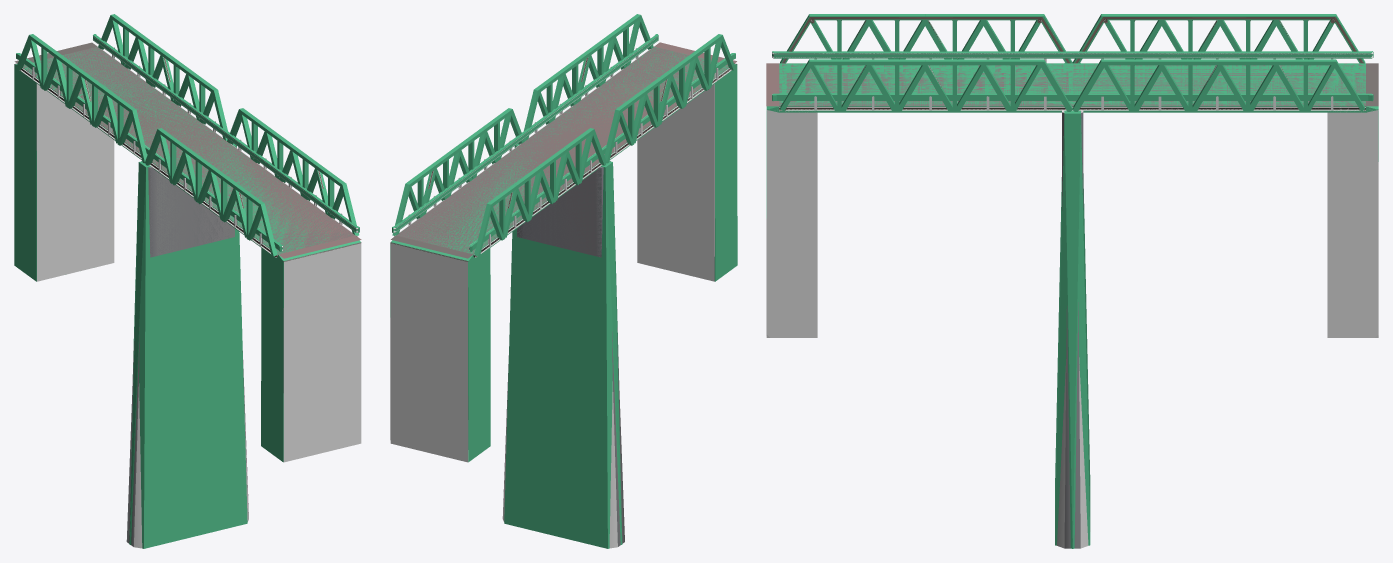
Rendered from eca_bld_bridge_standard_46m.dae.
3 views of the same model, side by side, from view 1: azimuth 30°, elevation 25°; view 2: azimuth 150°, elevation 25°; view 3: azimuth 270°, elevation 25° (orthographic). The views are drawn at different scales.
Parts seen in each view (by area): view 1: Colmesh-1, ind_bld_a800, ind_bld_a300, ind_bld_a20; view 2: Colmesh-1, ind_bld_a800, ind_bld_a300, ind_bld_a20; view 3: Colmesh-1, ind_bld_a800, ind_bld_a300, ind_bld_a20.
Part boxes in pixels (bbox=[...]): Colmesh-1: bbox=[14, 14, 360, 548]; ind_bld_a800: bbox=[20, 44, 361, 548]; ind_bld_a300: bbox=[20, 36, 360, 546]; ind_bld_a20: bbox=[14, 42, 361, 261]; Colmesh-1: bbox=[390, 14, 737, 548]; ind_bld_a800: bbox=[390, 35, 731, 548]; ind_bld_a300: bbox=[390, 29, 731, 546]; ind_bld_a20: bbox=[390, 42, 737, 449]; Colmesh-1: bbox=[766, 14, 1378, 548]; ind_bld_a800: bbox=[766, 19, 1378, 548]; ind_bld_a300: bbox=[775, 17, 1370, 548]; ind_bld_a20: bbox=[766, 63, 1378, 109].
Bounding box in the file's own units: 12 × 48.05 × 41.44.
